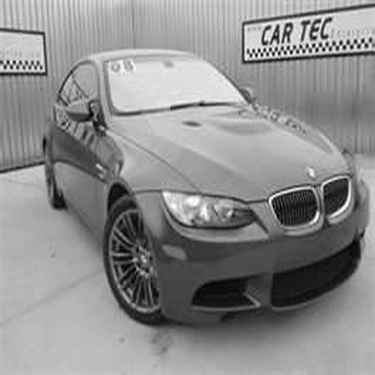car: (32, 36, 368, 332)
